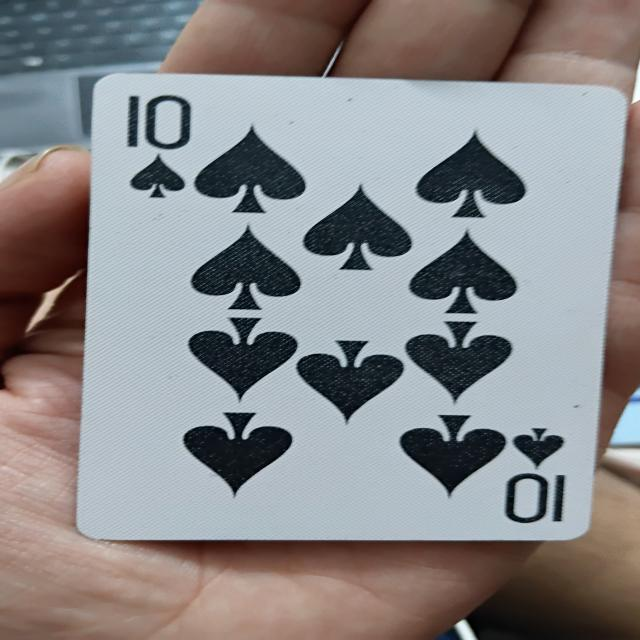10S: (89, 64, 587, 546)
